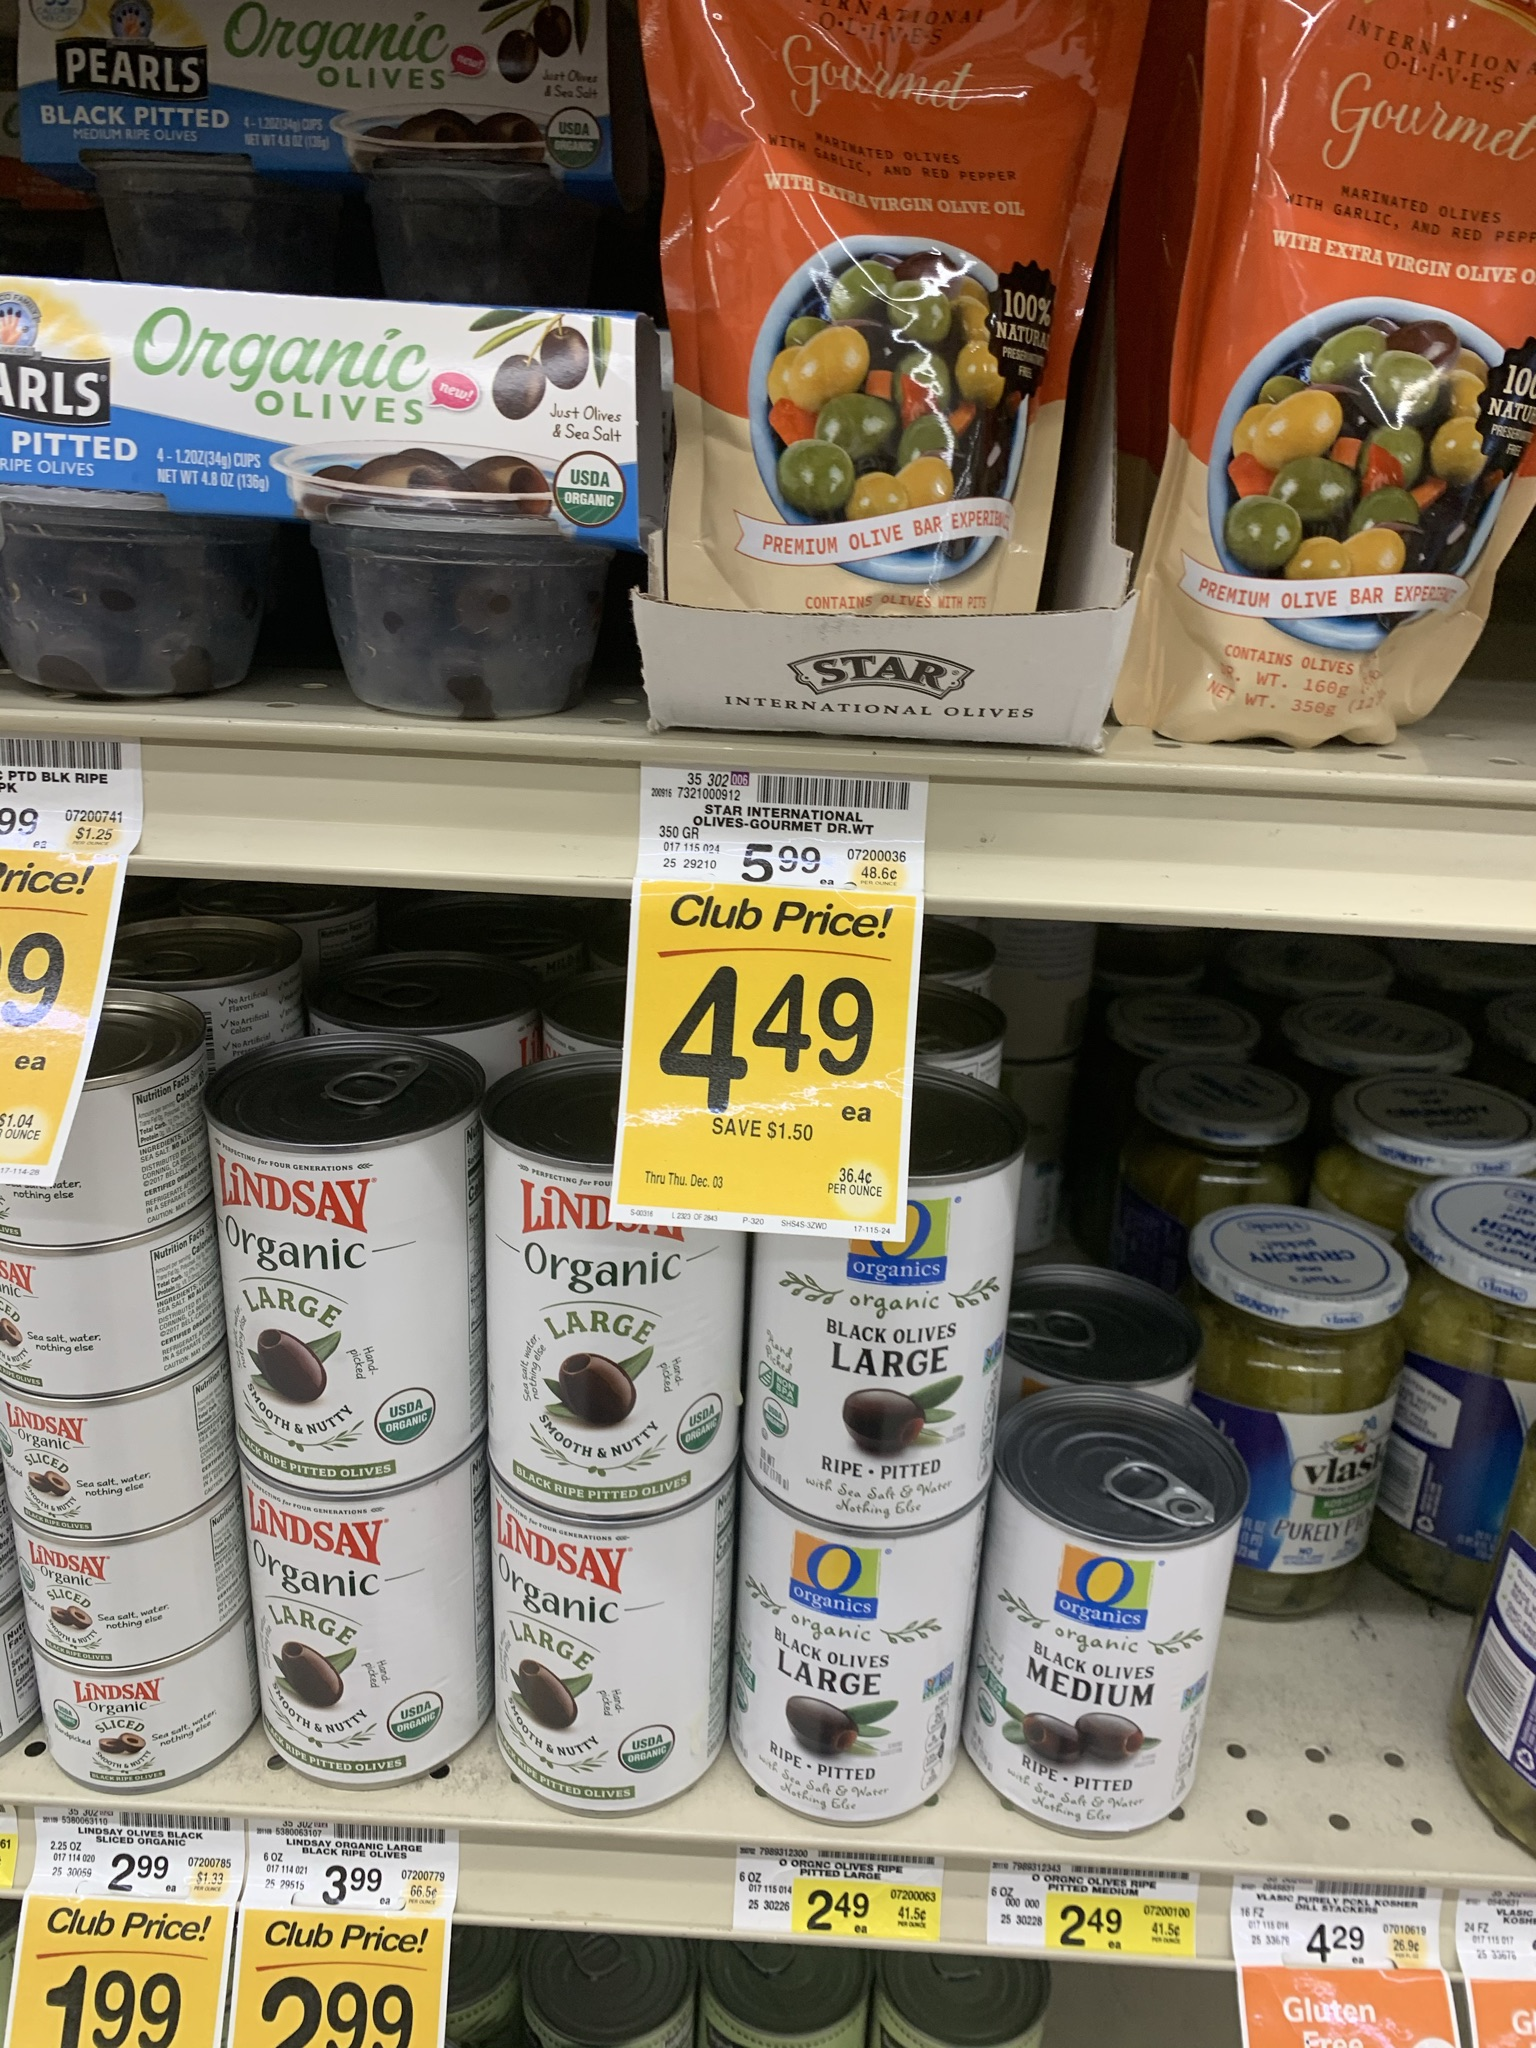can: (240, 1100, 474, 1458), (1020, 1467, 1197, 1816), (508, 1221, 737, 1479), (765, 1238, 997, 1487), (252, 1492, 482, 1742), (505, 1509, 720, 1774), (745, 1521, 950, 1796), (6, 1406, 219, 1506), (6, 1266, 211, 1366), (19, 1550, 231, 1646), (35, 1672, 231, 1771)
